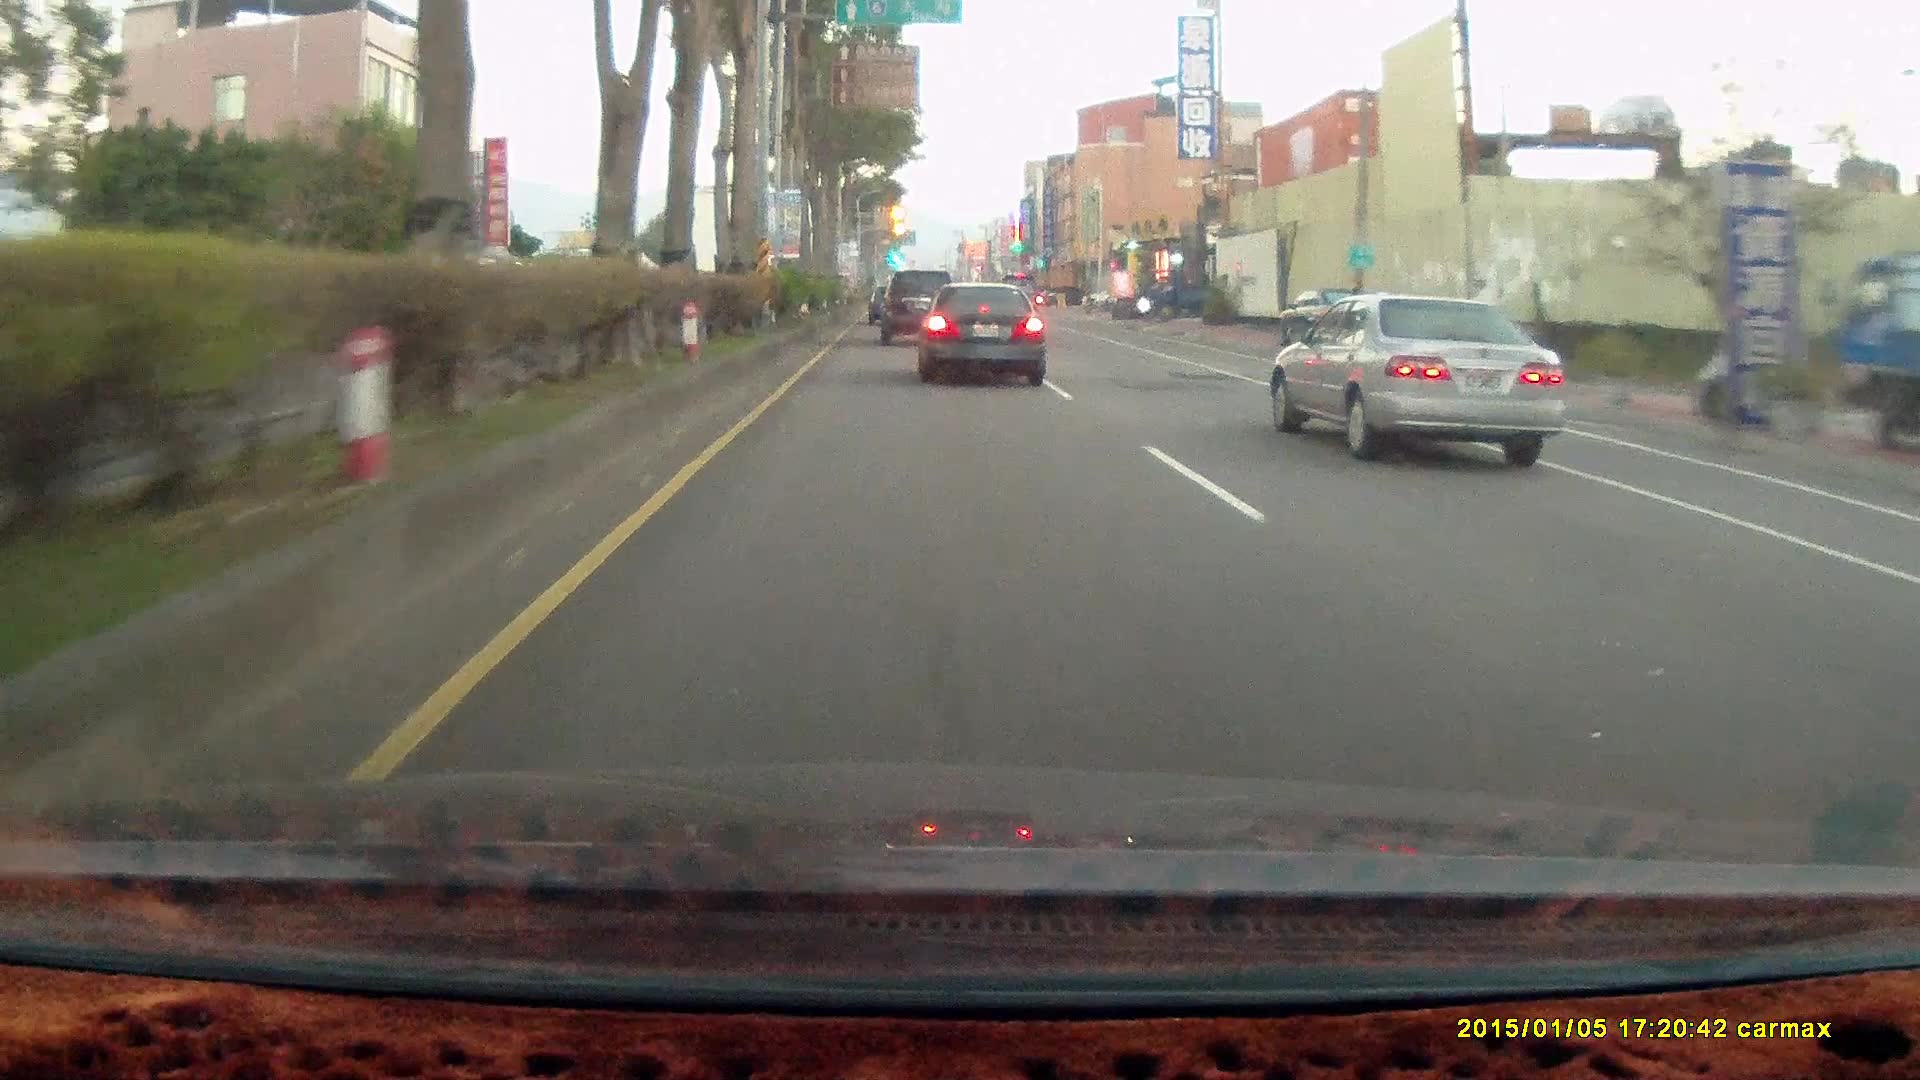vehicle: (1276, 293, 1580, 467), (1269, 293, 1567, 467), (1829, 257, 1919, 456), (913, 281, 1044, 385), (920, 285, 1050, 389), (880, 272, 961, 348), (878, 270, 957, 345), (1135, 266, 1218, 320), (1046, 286, 1087, 307)
